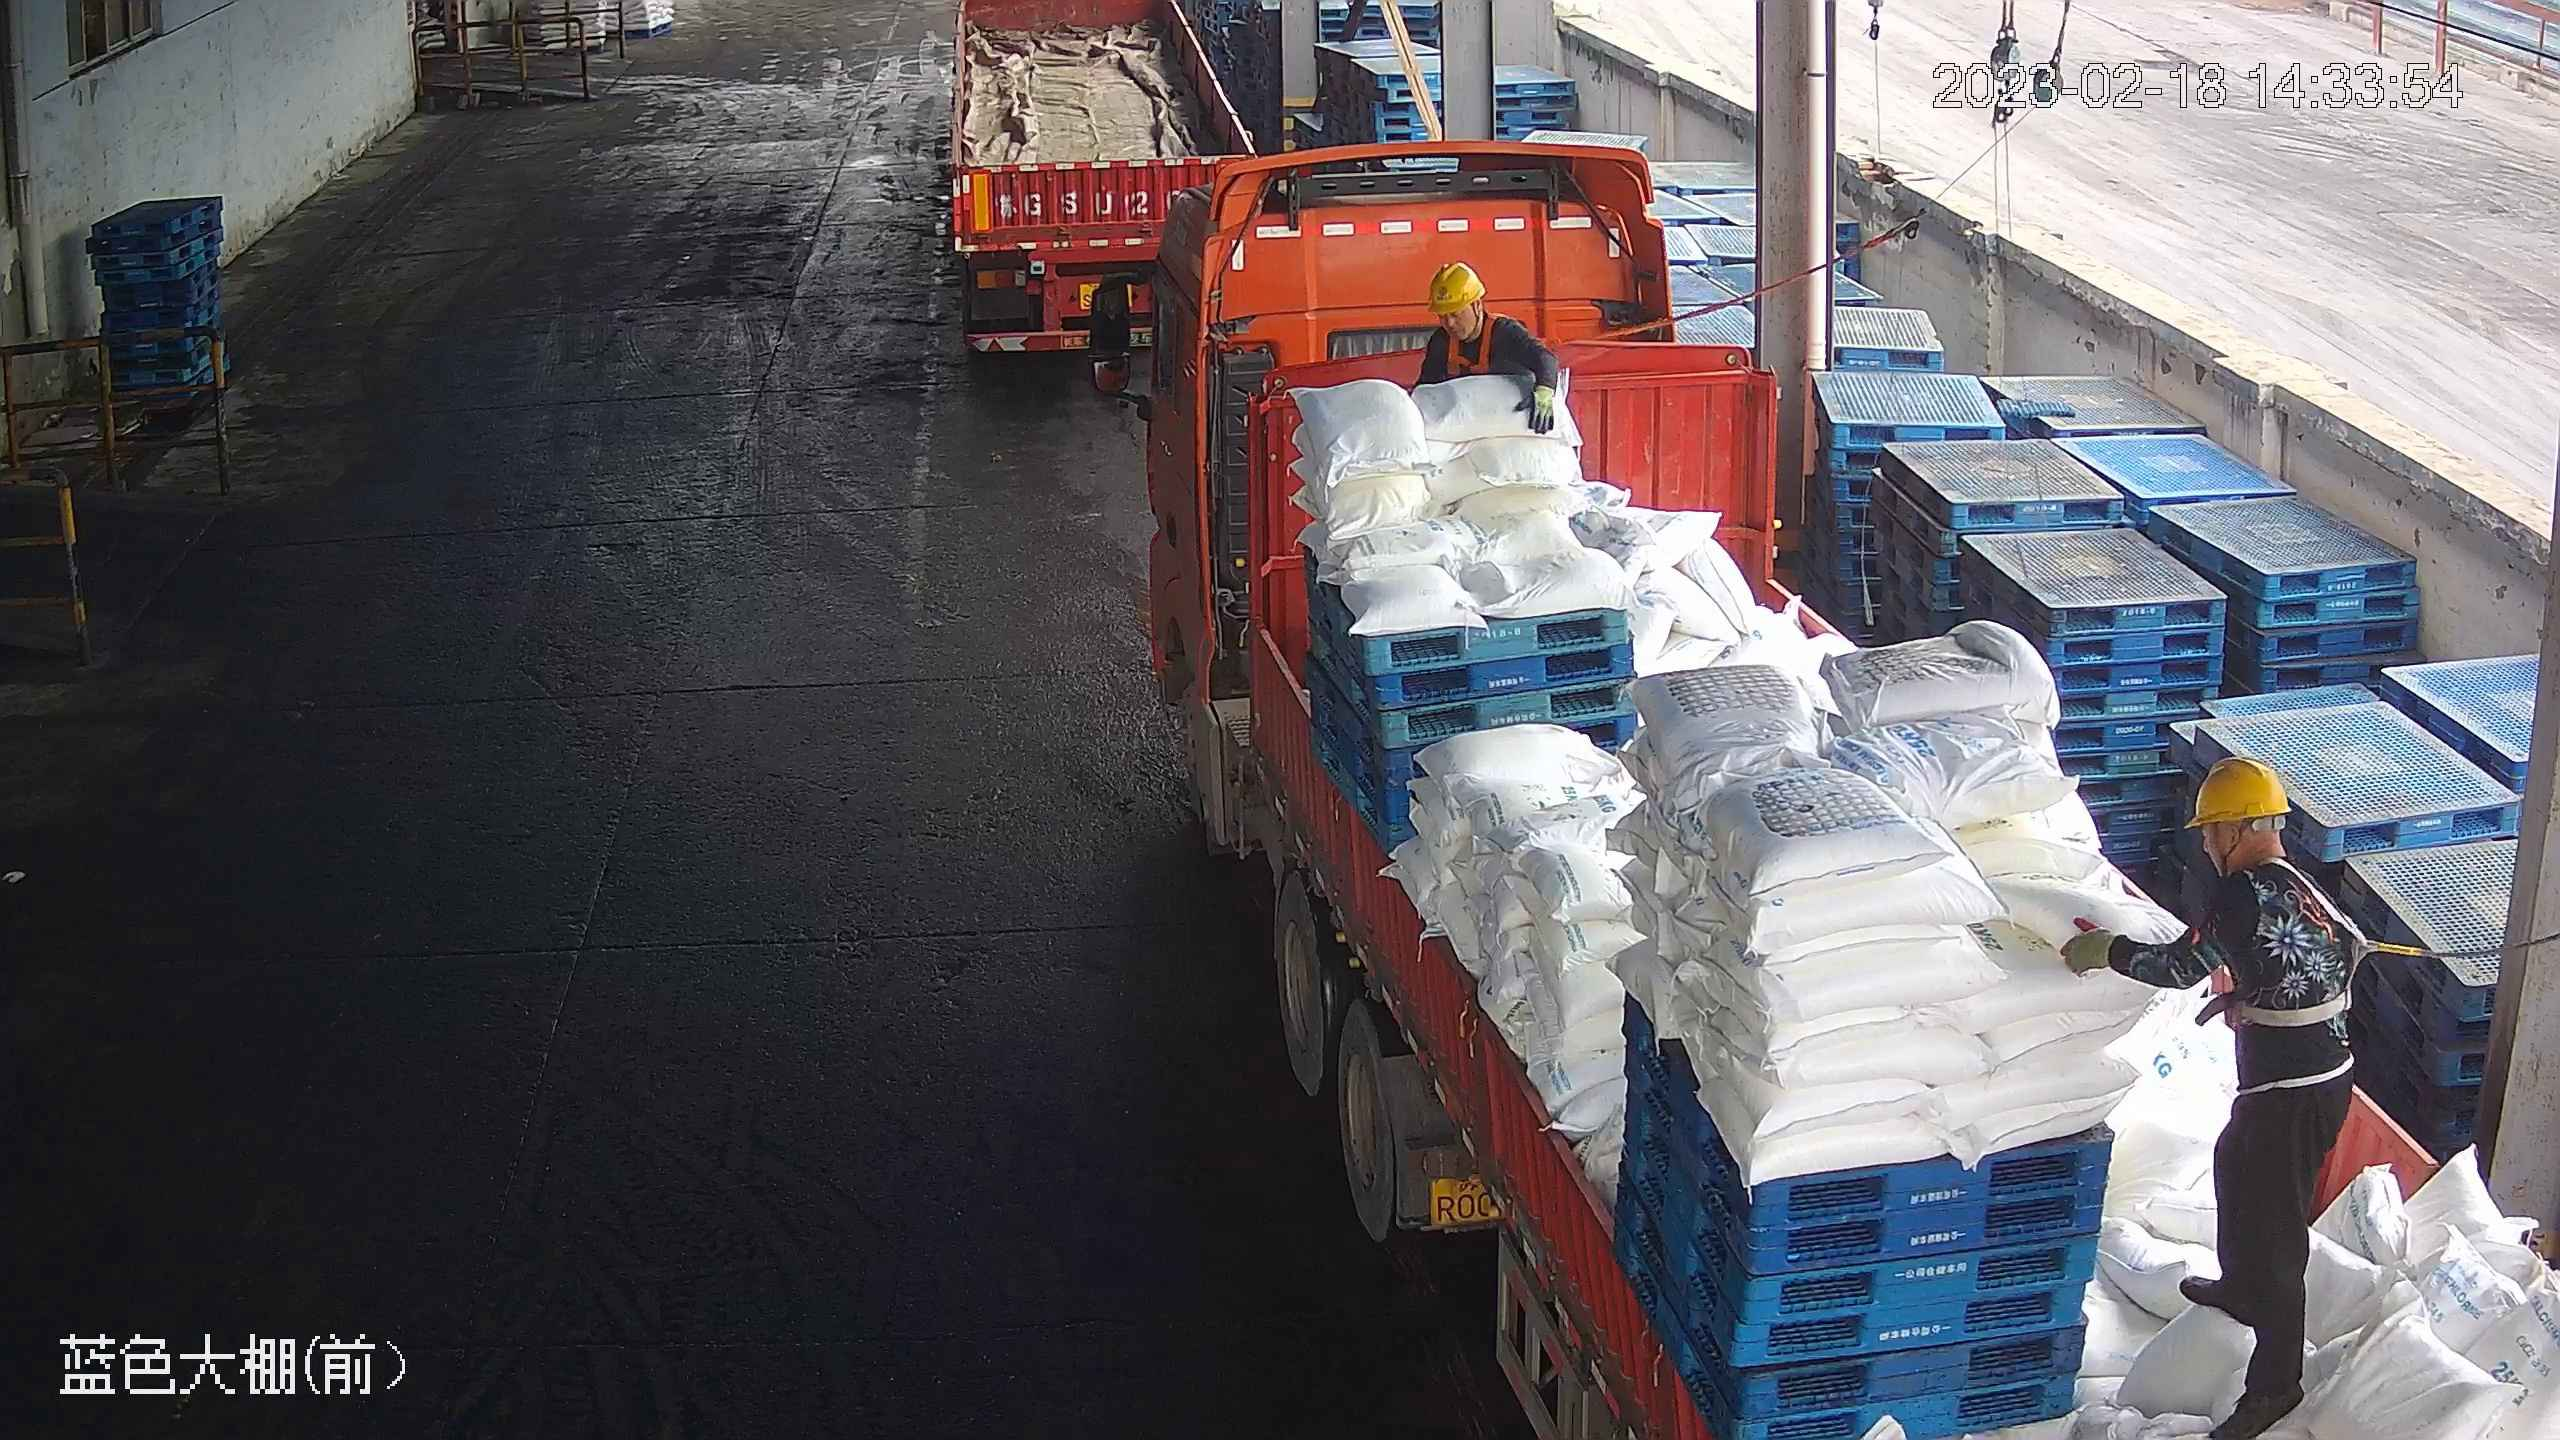belt: (2229, 852, 2423, 1022), (1442, 322, 1522, 376)
head: (2154, 757, 2354, 988), (1422, 262, 1547, 372)
helmet: (2181, 760, 2292, 824), (1427, 262, 1486, 313)
people: (2061, 750, 2370, 1440)
truck: (1083, 137, 2560, 1440), (945, 1, 1283, 376)
